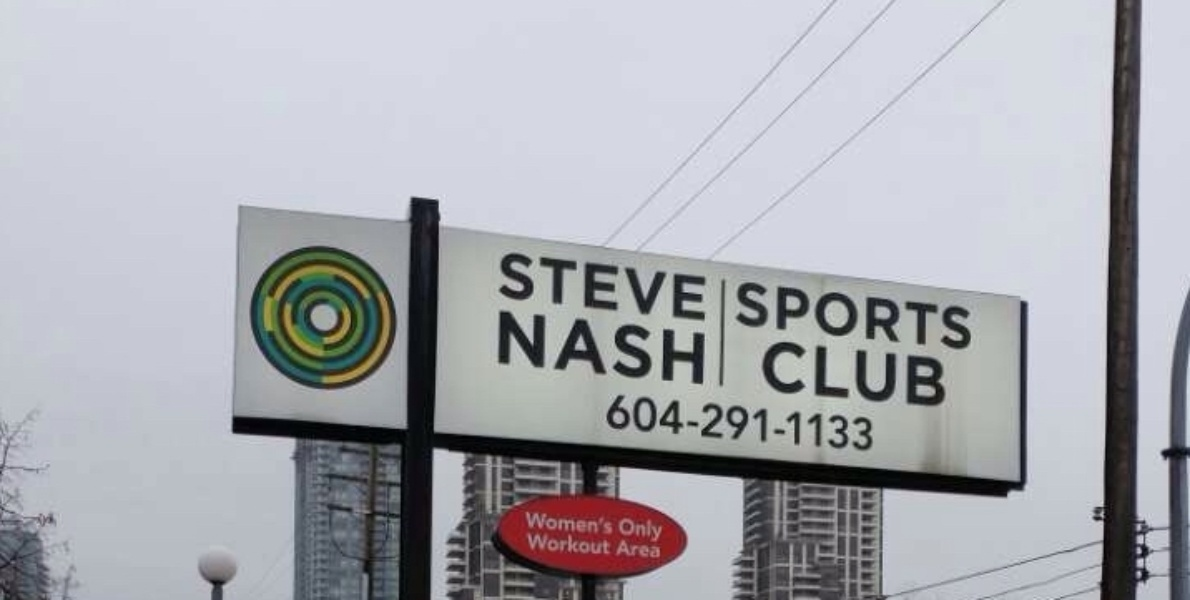text: (497, 308, 512, 386), (513, 308, 528, 386), (529, 308, 544, 386), (545, 308, 560, 386), (561, 308, 576, 386), (577, 308, 592, 386), (593, 308, 608, 386), (609, 308, 624, 386), (625, 308, 640, 386), (641, 308, 656, 386), (657, 308, 672, 386), (673, 308, 688, 386), (689, 308, 704, 386), (497, 248, 512, 323), (513, 248, 528, 323), (529, 248, 544, 323), (545, 248, 560, 323), (561, 248, 576, 323), (577, 248, 592, 323), (593, 248, 608, 323), (609, 248, 624, 323), (625, 248, 640, 323), (641, 248, 656, 323), (657, 248, 672, 323), (673, 248, 688, 323), (689, 248, 704, 323), (929, 338, 945, 408), (737, 280, 752, 351), (753, 280, 768, 351), (769, 280, 784, 351), (785, 280, 800, 351), (801, 280, 816, 351), (817, 280, 832, 351), (833, 280, 848, 351), (849, 280, 864, 351), (865, 280, 880, 351), (881, 280, 896, 351), (897, 280, 912, 351), (913, 280, 928, 351), (929, 280, 944, 351), (945, 280, 960, 351), (769, 338, 784, 408), (785, 338, 800, 408), (801, 338, 816, 408), (817, 338, 832, 408), (833, 338, 848, 408), (849, 338, 864, 408), (865, 338, 880, 408), (881, 338, 896, 408), (897, 338, 912, 408), (913, 338, 928, 408), (609, 393, 624, 453), (625, 393, 640, 453), (641, 393, 656, 453), (657, 393, 672, 453), (673, 393, 688, 453), (689, 393, 704, 453), (705, 393, 720, 453), (721, 393, 736, 453), (737, 393, 752, 453), (753, 393, 768, 453), (769, 393, 784, 453), (785, 393, 800, 453), (801, 393, 816, 453), (817, 393, 832, 453), (833, 393, 848, 453), (849, 393, 864, 453), (961, 280, 973, 351), (865, 393, 875, 453), (762, 338, 768, 408), (529, 509, 544, 537), (545, 509, 560, 537), (561, 509, 576, 537), (577, 509, 592, 537), (593, 509, 608, 537), (625, 516, 640, 544), (641, 516, 656, 544), (529, 529, 544, 557), (545, 529, 560, 557), (561, 529, 576, 557), (577, 529, 592, 557), (593, 529, 608, 557), (625, 537, 640, 561), (641, 537, 656, 561), (705, 248, 709, 323), (615, 537, 624, 561), (617, 516, 624, 544), (657, 516, 664, 544), (522, 509, 528, 537), (609, 529, 615, 557), (657, 537, 664, 561), (705, 308, 707, 386), (609, 509, 614, 537), (524, 529, 528, 557), (735, 280, 736, 351), (607, 393, 608, 453)
